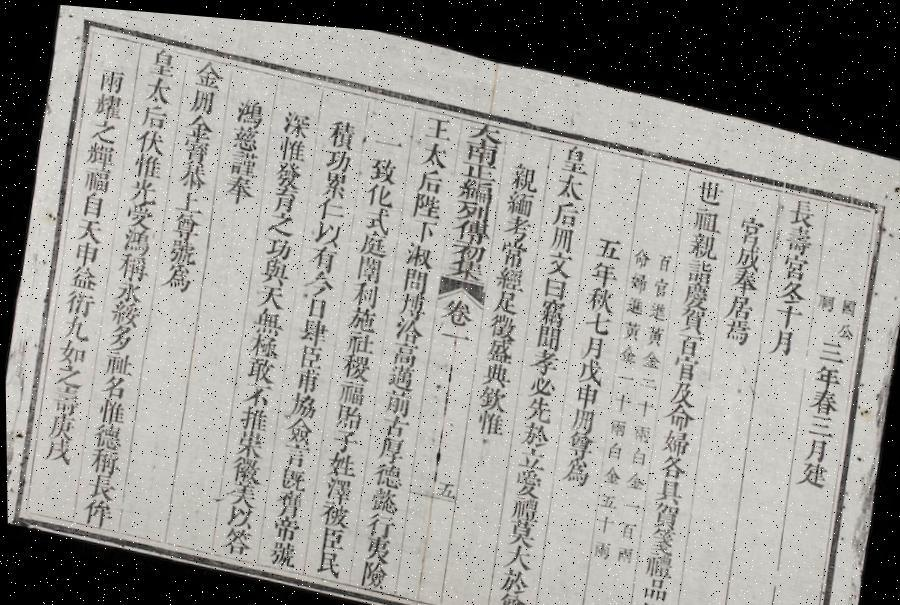c: (436, 286, 476, 323), (449, 206, 491, 239), (454, 166, 496, 199), (322, 108, 358, 146), (144, 40, 180, 77), (556, 131, 593, 167), (46, 379, 84, 414), (190, 52, 226, 88), (779, 208, 815, 244), (783, 180, 819, 216), (505, 149, 541, 185), (277, 100, 313, 136), (77, 492, 114, 527), (216, 518, 253, 553), (80, 467, 118, 501), (226, 449, 264, 483), (112, 246, 150, 280), (461, 128, 501, 160), (508, 457, 544, 492), (140, 69, 176, 104), (220, 167, 256, 202), (162, 230, 199, 264), (249, 300, 286, 334), (84, 442, 122, 475), (445, 246, 486, 276), (159, 255, 194, 290), (231, 89, 266, 124), (88, 417, 124, 451), (42, 406, 78, 440), (691, 162, 727, 196), (230, 421, 266, 455), (262, 530, 298, 564), (804, 370, 840, 404), (552, 160, 588, 194), (270, 480, 304, 516), (128, 146, 164, 180), (227, 116, 263, 150), (364, 146, 400, 180), (60, 284, 97, 317), (687, 191, 724, 224), (131, 121, 168, 154), (683, 217, 720, 250), (223, 142, 260, 175), (464, 109, 506, 138), (354, 551, 389, 585), (174, 155, 209, 189), (656, 413, 691, 447), (677, 266, 712, 300), (416, 130, 451, 164), (495, 556, 531, 589), (502, 506, 538, 539), (498, 531, 534, 564), (646, 487, 682, 520), (300, 261, 336, 294), (364, 476, 400, 509), (471, 398, 507, 431), (80, 136, 116, 169), (495, 226, 528, 262), (734, 198, 766, 235), (639, 538, 676, 570), (88, 87, 125, 119), (241, 349, 278, 381), (222, 474, 260, 505), (450, 189, 492, 217), (168, 205, 202, 239), (280, 408, 314, 442), (319, 467, 354, 500), (389, 307, 424, 340), (117, 221, 152, 254), (38, 434, 74, 466), (99, 344, 135, 376), (794, 444, 830, 476), (360, 502, 396, 534), (660, 388, 696, 420), (64, 259, 100, 291), (718, 302, 754, 334), (124, 172, 160, 204), (680, 242, 716, 274), (368, 452, 404, 484), (322, 442, 358, 474), (336, 345, 372, 377), (344, 297, 380, 329), (53, 335, 90, 366), (314, 493, 351, 524), (93, 61, 127, 94), (558, 444, 591, 478), (548, 187, 582, 220), (722, 277, 756, 310), (257, 250, 291, 283), (448, 230, 488, 258), (252, 276, 287, 308), (121, 196, 156, 228), (650, 463, 685, 495), (726, 252, 761, 284), (57, 310, 92, 342), (78, 161, 113, 193), (304, 236, 339, 268), (309, 212, 344, 244), (346, 272, 381, 304), (92, 393, 128, 424), (106, 295, 142, 326), (340, 321, 376, 352), (186, 81, 219, 114), (408, 182, 442, 214), (582, 272, 616, 304), (96, 368, 130, 400), (358, 526, 392, 558), (644, 512, 678, 544), (178, 131, 212, 163), (765, 311, 797, 345), (372, 426, 406, 458), (86, 112, 120, 144), (674, 292, 708, 324), (182, 106, 216, 138), (379, 380, 413, 412), (235, 398, 269, 430), (526, 336, 560, 368), (502, 178, 536, 210), (284, 384, 318, 416), (394, 282, 428, 314), (295, 310, 329, 342), (362, 172, 396, 204), (484, 302, 518, 334), (400, 232, 434, 264), (274, 128, 308, 160), (492, 254, 526, 286), (238, 374, 273, 405), (328, 395, 363, 426), (355, 222, 390, 253), (103, 320, 136, 352), (774, 262, 807, 294), (420, 104, 453, 136), (777, 236, 810, 268), (562, 419, 594, 452), (271, 153, 304, 185), (482, 326, 515, 358), (499, 202, 532, 234), (541, 239, 574, 271), (397, 258, 430, 290), (352, 246, 385, 278), (534, 286, 566, 319), (310, 541, 344, 572), (520, 385, 554, 416), (136, 98, 170, 129), (654, 440, 688, 471), (359, 198, 393, 229), (456, 151, 498, 176), (268, 179, 300, 211), (668, 340, 700, 372), (586, 247, 618, 279), (574, 345, 606, 377), (318, 162, 350, 194), (507, 483, 540, 514), (802, 396, 836, 426), (814, 322, 848, 352), (267, 508, 301, 538), (110, 273, 144, 303), (770, 286, 804, 316), (810, 346, 844, 376), (590, 222, 624, 252), (246, 326, 280, 356), (312, 189, 347, 218), (800, 420, 832, 451), (672, 317, 704, 348), (76, 187, 108, 218), (531, 312, 563, 343), (636, 562, 669, 592), (376, 404, 409, 434), (264, 204, 297, 234), (383, 356, 416, 386), (474, 374, 507, 404), (517, 410, 550, 440), (435, 319, 471, 346), (414, 158, 445, 189), (314, 518, 346, 548), (514, 434, 546, 464), (731, 230, 763, 260), (386, 332, 418, 362), (666, 366, 698, 396), (524, 362, 556, 392), (544, 214, 576, 244), (334, 372, 366, 402), (479, 352, 511, 382), (566, 394, 596, 426), (489, 278, 521, 308), (222, 497, 255, 526), (327, 419, 360, 448), (72, 213, 105, 242), (276, 458, 307, 488), (407, 208, 438, 238), (294, 335, 324, 366), (291, 360, 321, 391), (52, 359, 84, 388), (69, 236, 101, 265), (278, 435, 310, 464), (580, 298, 612, 327), (321, 139, 353, 168), (368, 124, 405, 149), (491, 580, 528, 605), (172, 184, 205, 212), (261, 228, 293, 256), (578, 321, 606, 352), (571, 370, 599, 400), (539, 264, 568, 292), (302, 287, 330, 315), (640, 309, 664, 338), (633, 586, 667, 605), (644, 286, 668, 312), (609, 378, 632, 405), (599, 451, 622, 478), (588, 525, 612, 550), (638, 336, 662, 361), (604, 403, 628, 428), (630, 232, 652, 259), (832, 304, 856, 328), (602, 427, 624, 453), (622, 456, 644, 482), (648, 262, 670, 288), (620, 306, 642, 332), (626, 258, 648, 284), (432, 469, 456, 492), (813, 275, 836, 299), (652, 238, 674, 263), (611, 531, 634, 554), (632, 384, 654, 408), (614, 506, 636, 530), (629, 410, 651, 434), (624, 282, 646, 306), (593, 501, 614, 526), (837, 280, 858, 304), (596, 479, 618, 501), (626, 434, 647, 457), (617, 331, 638, 354), (619, 483, 641, 504), (614, 356, 635, 377), (636, 360, 657, 381)
